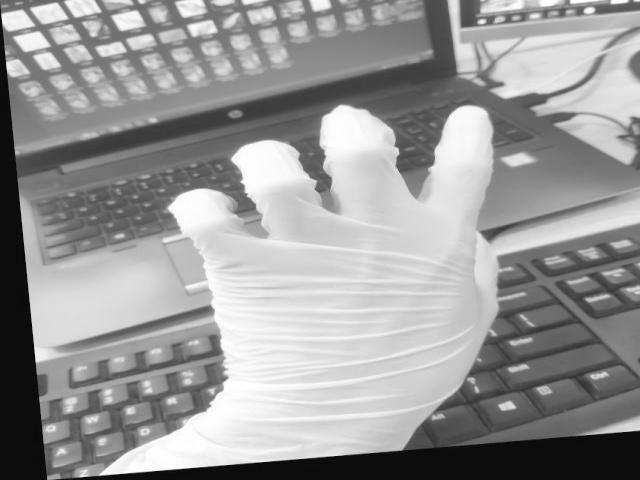gloved: (166, 106, 499, 480)
